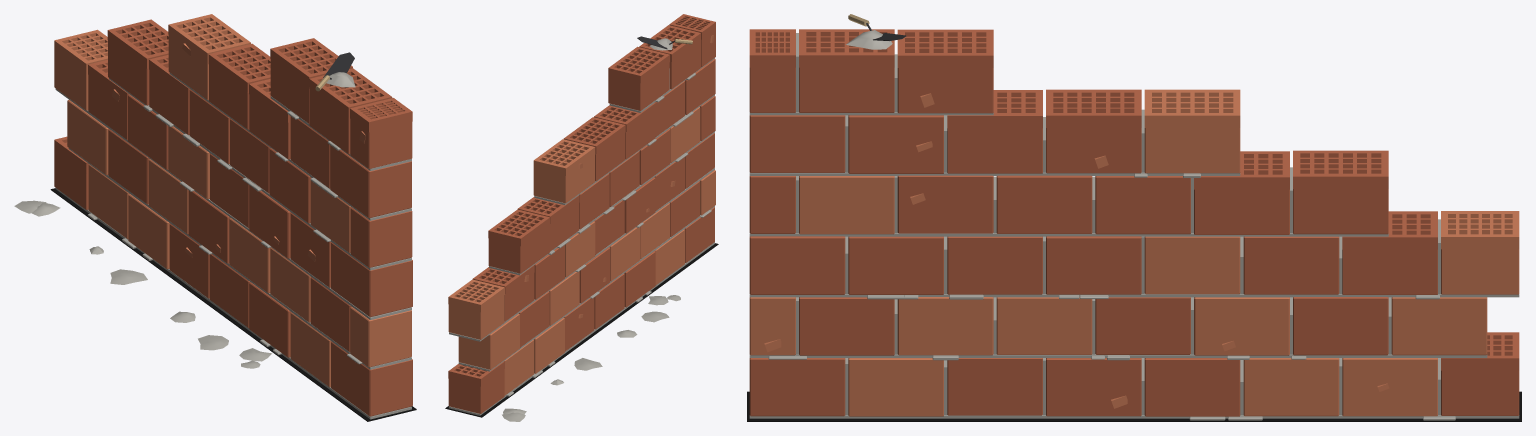
Rendered from wall_unfinished.glb.
The picture shows the model from 3 angles, left to right: view 1: azimuth 30°, elevation 25°; view 2: azimuth 150°, elevation 25°; view 3: azimuth 270°, elevation 25°; orthographic projection. The views are drawn at different scales.
Visible parts, largest first — view 1: teil3, teil4, teil1, teil2, teil0, teil6; view 2: teil3, teil4, teil1, teil2, teil0; view 3: teil3, teil4, teil1, teil0, teil2.
Part boxes in pixels (<box>): teil3: <box>54,19,412,416</box>; teil4: <box>54,14,411,387</box>; teil1: <box>55,73,411,419</box>; teil2: <box>14,72,362,368</box>; teil0: <box>50,188,416,421</box>; teil6: <box>323,52,354,77</box>; teil3: <box>448,14,715,413</box>; teil4: <box>448,35,715,395</box>; teil1: <box>449,58,714,415</box>; teil2: <box>502,38,711,421</box>; teil0: <box>445,243,718,417</box>; teil3: <box>749,29,1519,416</box>; teil4: <box>749,89,1519,416</box>; teil1: <box>749,33,1519,418</box>; teil0: <box>747,391,1521,421</box>; teil2: <box>768,30,1455,420</box>.
Bounding box in the file's own units: 0.5517 × 1.64 × 3.02.
